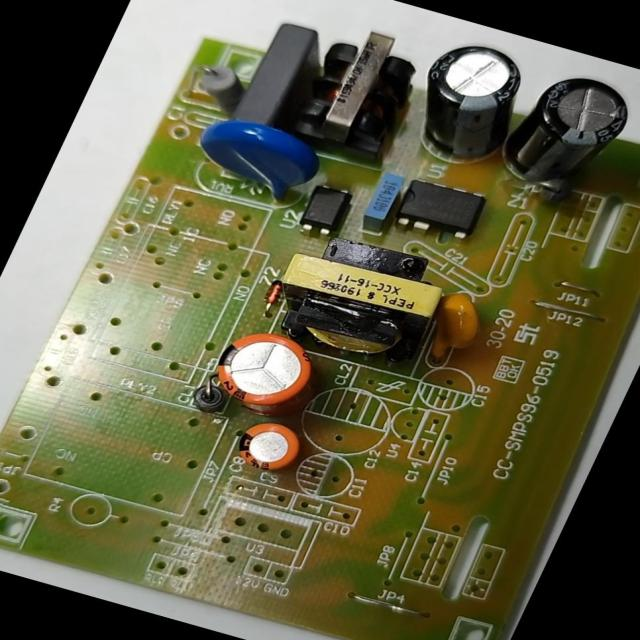Cap1: (194, 317, 333, 424)
Cap2: (222, 412, 314, 481)
Cap3: (392, 30, 550, 177)
Cap4: (488, 63, 639, 205)
MOSFET: (386, 168, 493, 244)
Mov: (180, 109, 331, 214)
Resistor: (181, 54, 257, 112)
Transformer: (253, 219, 463, 376), (283, 19, 438, 159)
